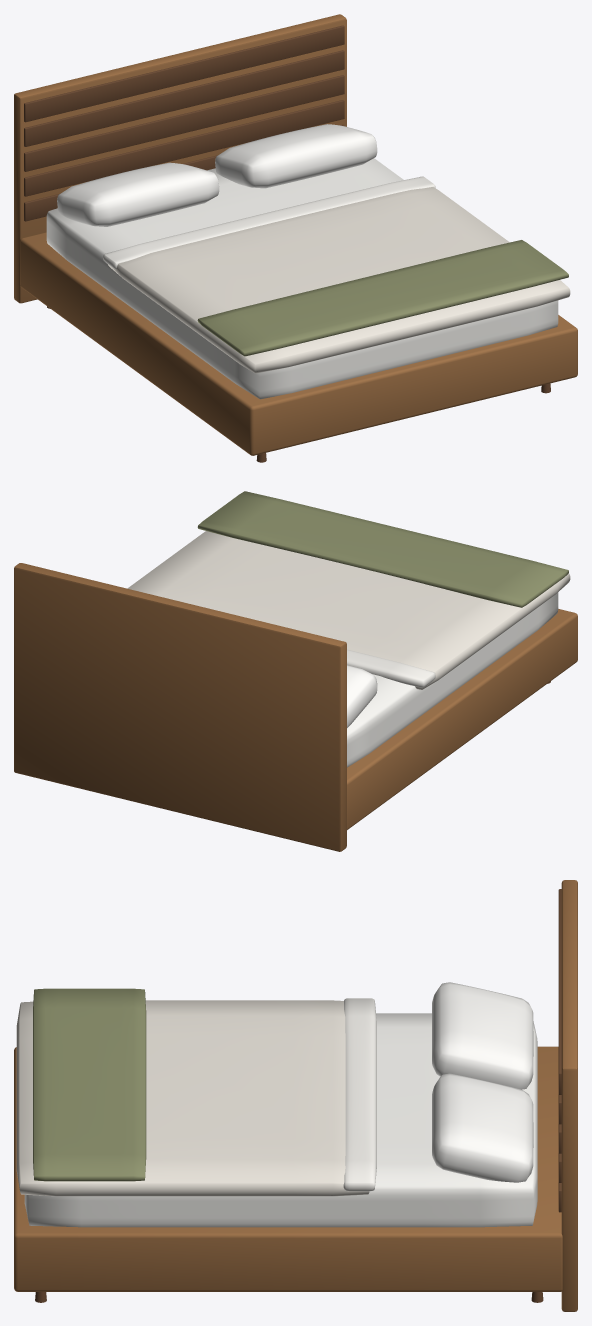
Rendered from bed_wood.glb.
3 views of the same model, one above another, from view 1: azimuth 30°, elevation 25°; view 2: azimuth 150°, elevation 25°; view 3: azimuth 270°, elevation 25° (orthographic). The views are drawn at different scales.
Visible parts, largest first — view 1: soft.001, box, soft, soft.003, box.001, soft.004, soft.005, box.006, box.005, box.004, box.003, soft.002 (+1 smaller); view 2: box.001, soft.001, soft.003, box, soft, soft.002, soft.004; view 3: soft.001, box, soft, soft.003, soft.005, soft.004, box.001, soft.002, box.006.
Part boxes in pixels (x1=…): soft.001: x1=108, y1=187, x2=570, y2=373; box: x1=20, y1=232, x2=577, y2=455; soft: x1=46, y1=158, x2=558, y2=399; soft.003: x1=197, y1=240, x2=568, y2=356; box.001: x1=14, y1=14, x2=346, y2=303; soft.004: x1=57, y1=162, x2=219, y2=226; soft.005: x1=215, y1=124, x2=377, y2=188; box.006: x1=24, y1=25, x2=344, y2=122; box.005: x1=24, y1=50, x2=344, y2=146; box.004: x1=24, y1=75, x2=344, y2=171; box.003: x1=24, y1=100, x2=344, y2=196; soft.002: x1=103, y1=176, x2=435, y2=269; box.001: x1=14, y1=563, x2=346, y2=851; soft.001: x1=127, y1=531, x2=570, y2=689; soft.003: x1=197, y1=491, x2=568, y2=607; box: x1=347, y1=609, x2=577, y2=829; soft: x1=347, y1=592, x2=558, y2=767; soft.002: x1=347, y1=649, x2=435, y2=687; soft.004: x1=347, y1=665, x2=377, y2=727; soft.001: x1=16, y1=1000, x2=369, y2=1196; box: x1=14, y1=1046, x2=562, y2=1291; soft: x1=24, y1=1013, x2=537, y2=1227; soft.003: x1=33, y1=988, x2=146, y2=1181; soft.005: x1=432, y1=1073, x2=533, y2=1182; soft.004: x1=432, y1=982, x2=533, y2=1089; box.001: x1=561, y1=880, x2=577, y2=1311; soft.002: x1=343, y1=998, x2=376, y2=1191; box.006: x1=558, y1=889, x2=561, y2=1094.
Bounding box in the file's own units: 166 × 100 × 209.
